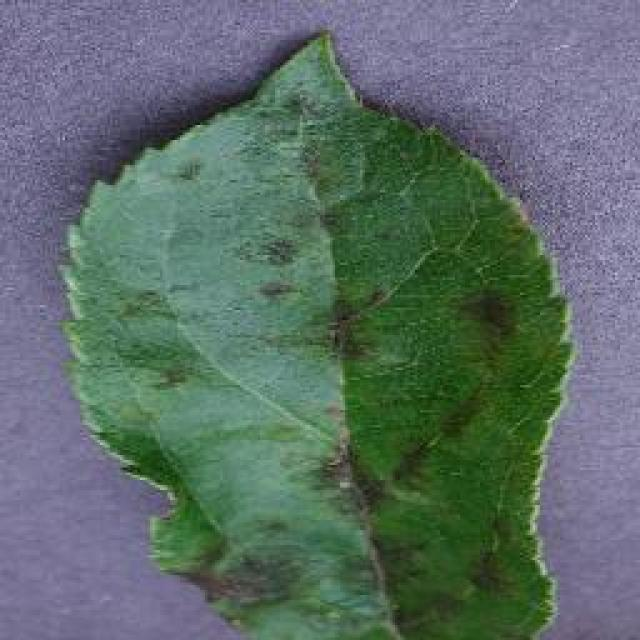apple scab disease: (55, 28, 577, 638)
